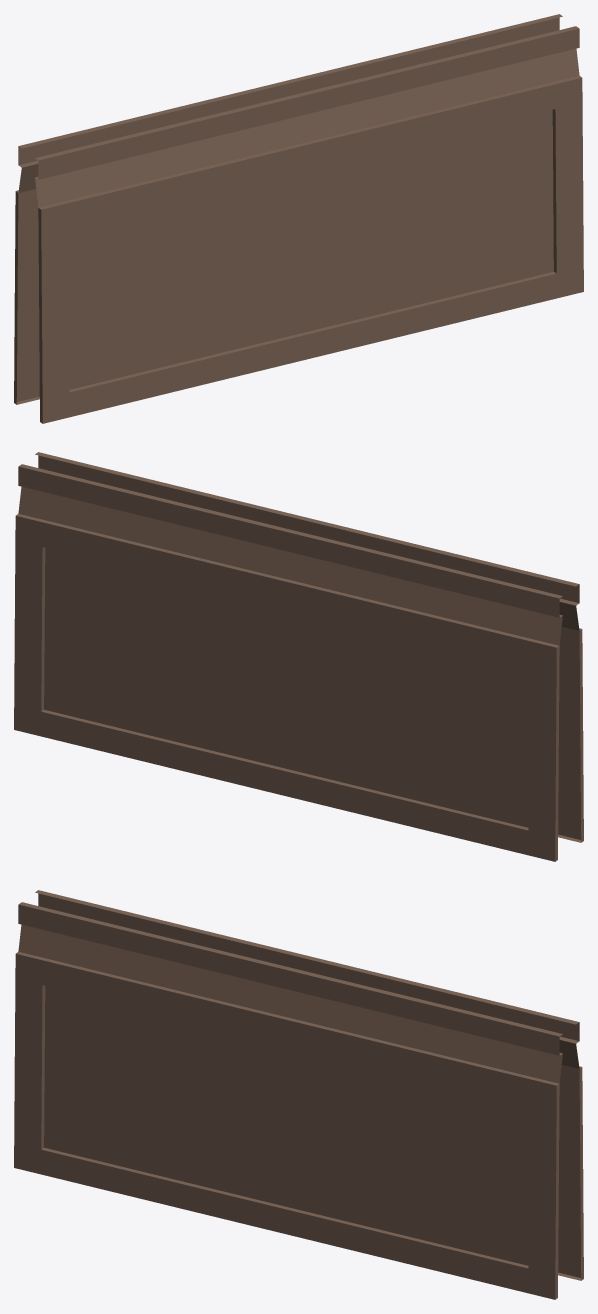
The model's file is Bot_Wall.fbx.
3 renders of one model, top to bottom at view 1: azimuth 30°, elevation 25°; view 2: azimuth 150°, elevation 25°; view 3: azimuth 330°, elevation 25°, orthographic.
Visible parts, largest first — view 1: DoorFrame.002; view 2: DoorFrame.002; view 3: DoorFrame.002.
Boxes of the visible parts, x1,y1,x2,y2 form: DoorFrame.002: [14, 14, 583, 423]; DoorFrame.002: [14, 452, 583, 861]; DoorFrame.002: [14, 890, 583, 1299].
Size of the model in its own units: 371 by 170 by 34.21.
